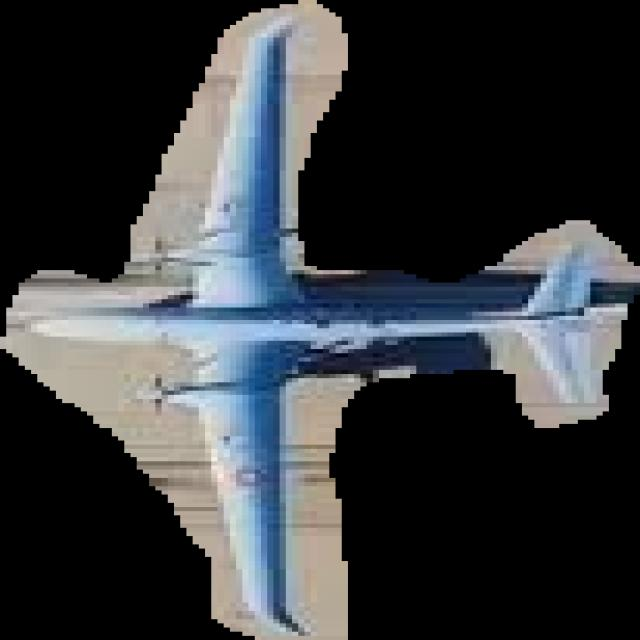iha: (31, 2, 634, 632)
